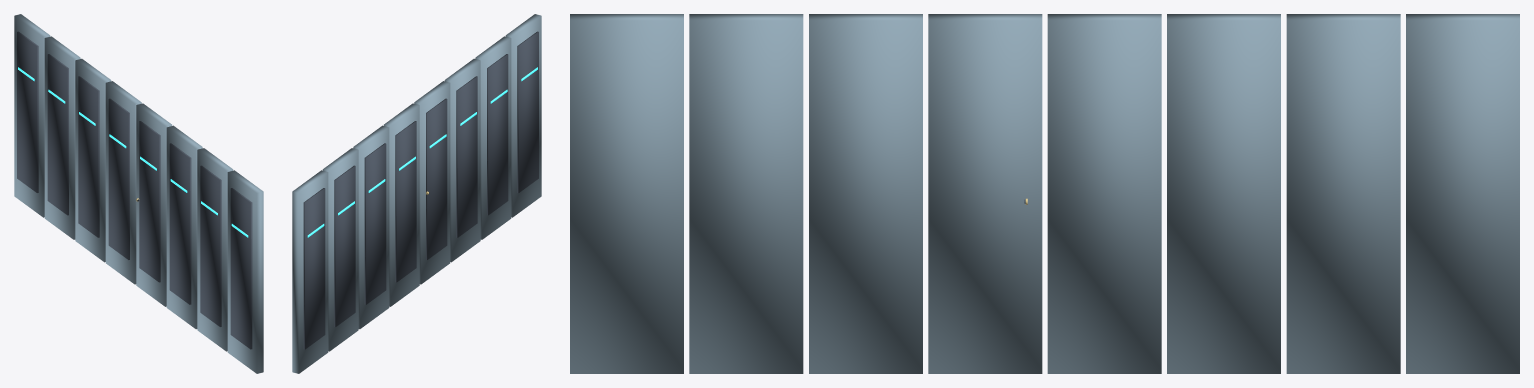
File: 03_L93_TitaniumWallModuleRight.glb
The picture shows the model from 3 angles, left to right: view 1: azimuth 30°, elevation 25°; view 2: azimuth 150°, elevation 25°; view 3: azimuth 270°, elevation 25°; orthographic projection. The views are drawn at different scales.
Visible parts, largest first — view 1: L92_TitaniumWallModuleRight_Part_0001, L92_TitaniumWallModuleRight_Part_0000, L92_TitaniumWallModuleRight_Part_0002; view 2: L92_TitaniumWallModuleRight_Part_0001, L92_TitaniumWallModuleRight_Part_0000, L92_TitaniumWallModuleRight_Part_0002; view 3: L92_TitaniumWallModuleRight_Part_0000.
Boxes of the visible parts, x1,y1,x2,y2 form: L92_TitaniumWallModuleRight_Part_0001: (17, 31, 252, 349); L92_TitaniumWallModuleRight_Part_0000: (14, 14, 263, 373); L92_TitaniumWallModuleRight_Part_0002: (18, 67, 248, 237); L92_TitaniumWallModuleRight_Part_0001: (303, 31, 538, 349); L92_TitaniumWallModuleRight_Part_0000: (292, 14, 541, 373); L92_TitaniumWallModuleRight_Part_0002: (307, 67, 537, 237); L92_TitaniumWallModuleRight_Part_0000: (570, 14, 1519, 373).
Size of the model in its own units: 0.67 by 8 by 19.49.
